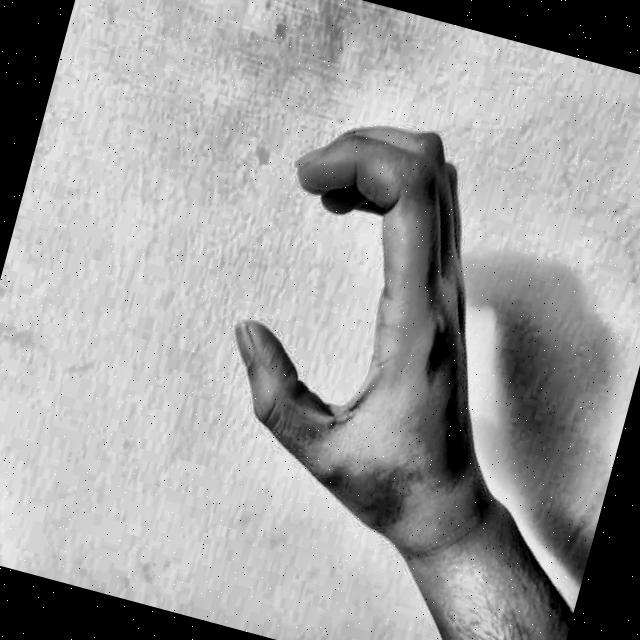A: (144, 72, 527, 593)
